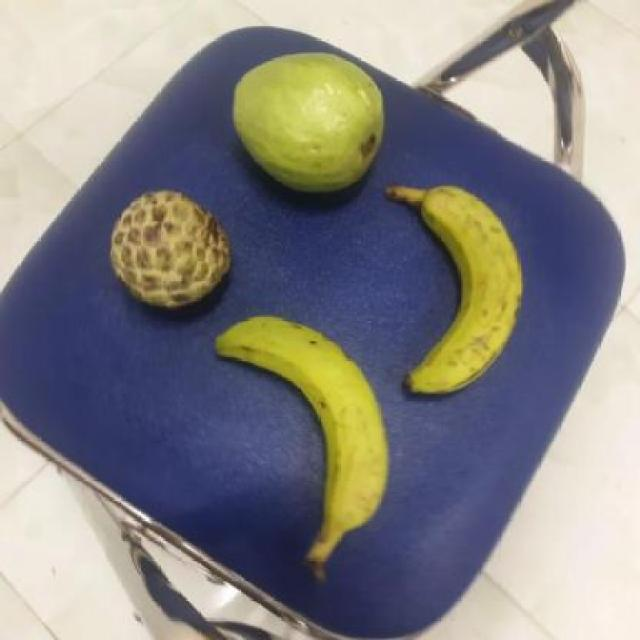banana: (208, 316, 388, 549), (383, 180, 526, 394)
guava: (228, 50, 384, 198)
sugar apple: (102, 189, 230, 311)
